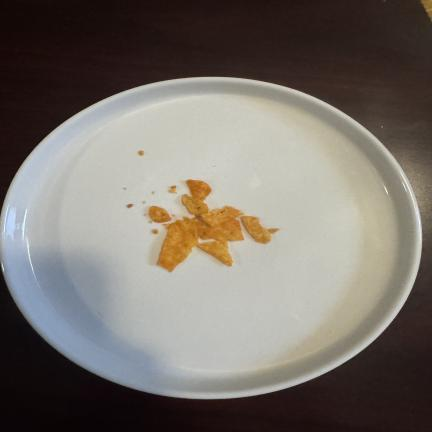chips: (158, 180, 278, 271), (158, 221, 197, 271), (243, 216, 278, 243), (199, 219, 243, 240), (198, 241, 232, 266), (202, 206, 243, 226), (182, 195, 208, 215), (187, 180, 211, 200), (149, 206, 171, 222), (169, 186, 176, 193), (268, 229, 279, 233), (152, 229, 158, 234), (138, 151, 144, 155), (127, 204, 133, 208)
